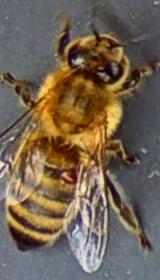varroa_mite: (57, 163, 80, 189)
